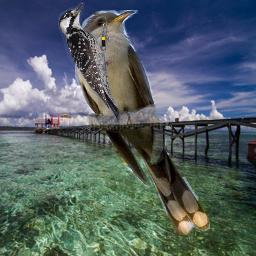Cuckoo: (75, 10, 210, 235)
Woodpecker: (58, 2, 120, 121)
